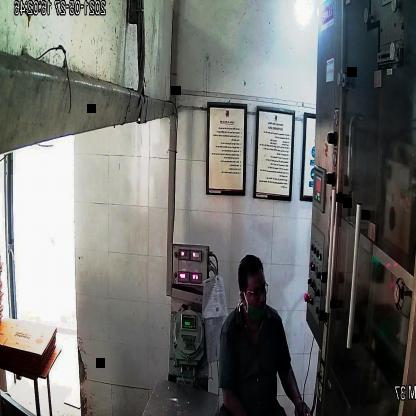goggles: (242, 276, 271, 304)
